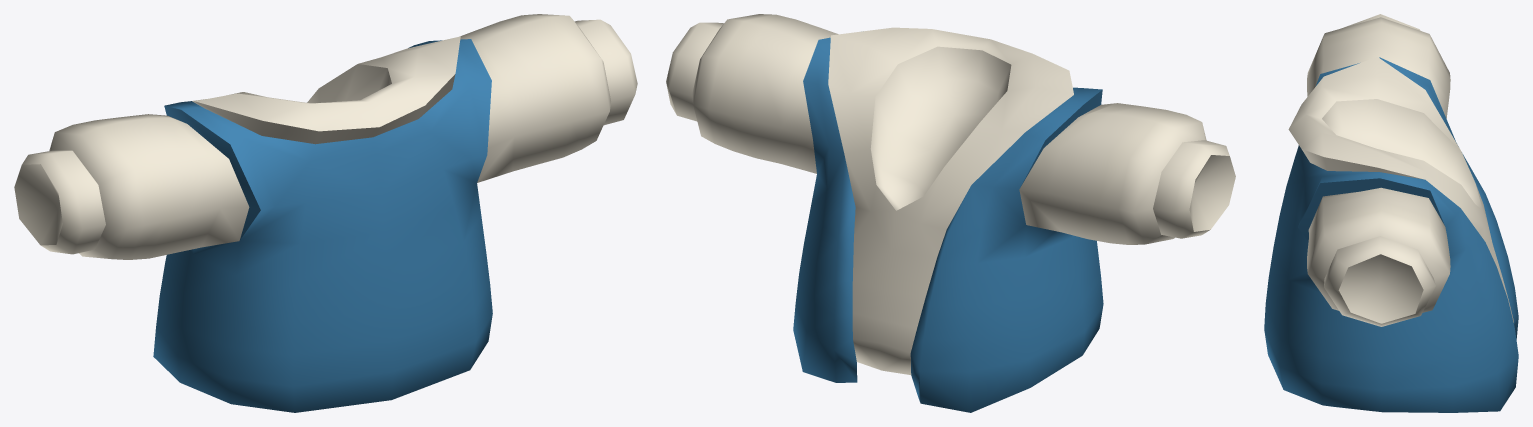
File: Top_29.fbx
3 views of the same model, side by side, from view 1: azimuth 30°, elevation 25°; view 2: azimuth 150°, elevation 25°; view 3: azimuth 270°, elevation 25° (orthographic). The views are drawn at different scales.
Visible parts, largest first — view 1: Top_29; view 2: Top_29; view 3: Top_29.
Part boxes in pixels (box(x1,y1,x2,y2)): Top_29: box(14, 14, 637, 412); Top_29: box(666, 14, 1235, 412); Top_29: box(1264, 14, 1518, 412).
Bounding box in the file's own units: 86.89 × 44.67 × 39.02.
